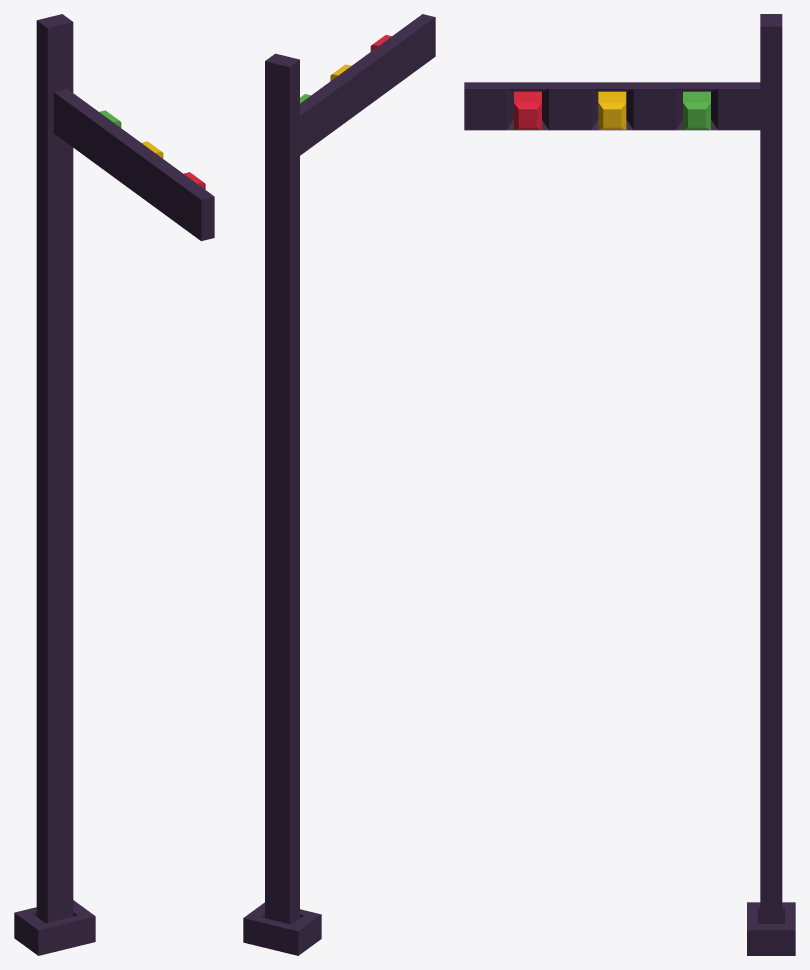
The model's file is trafficlight.glb.
The picture shows the model from 3 angles, left to right: view 1: azimuth 30°, elevation 25°; view 2: azimuth 150°, elevation 25°; view 3: azimuth 270°, elevation 25°; orthographic projection. The views are drawn at different scales.
Parts seen in each view (by area): view 1: trafficsignal; view 2: trafficsignal; view 3: trafficsignal.
Boxes of the visible parts, x1,y1,x2,y2 form: trafficsignal: (14, 14, 214, 955); trafficsignal: (243, 14, 435, 955); trafficsignal: (464, 14, 795, 955).
Size of the model in its own units: 0.4503 by 6.9 by 2.25.
1 material, 1 textured.
